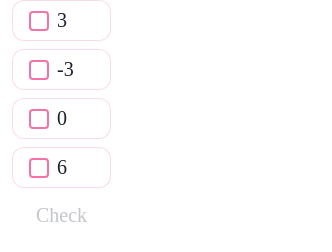
Scenario: MultiSelectMC › Check button is enabled after tapping one option
The image size is (332, 252).
Click the checkbox "3": (62, 20) [12,0,111,41]
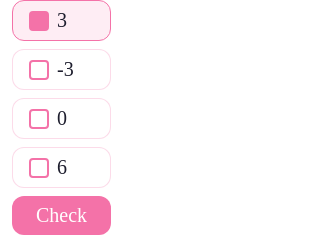
expect the button with test id "multiselectmc-check-button" is enabled: met, box [12,196,111,235]
